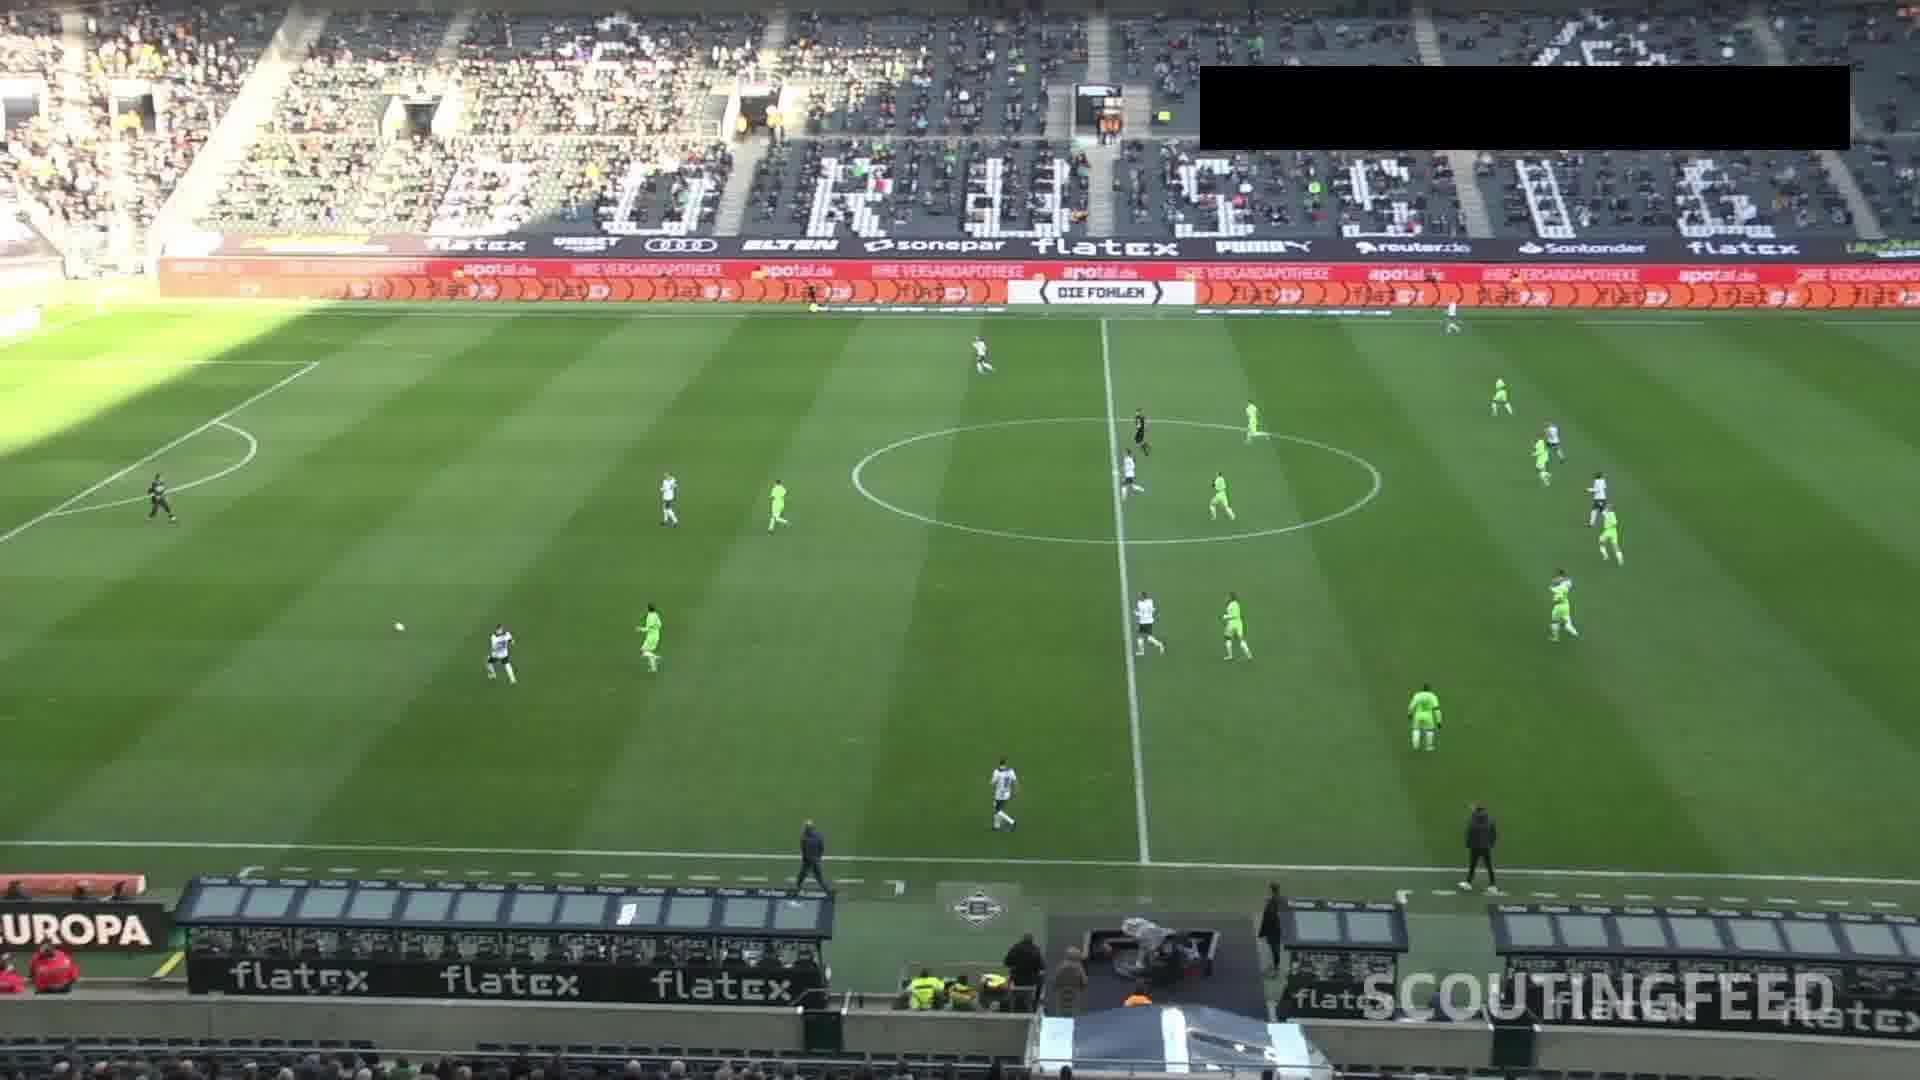football: (393, 624, 406, 632)
